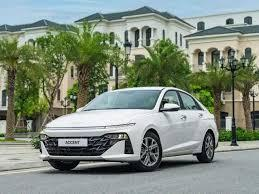hyundai: (70, 120, 97, 132)
